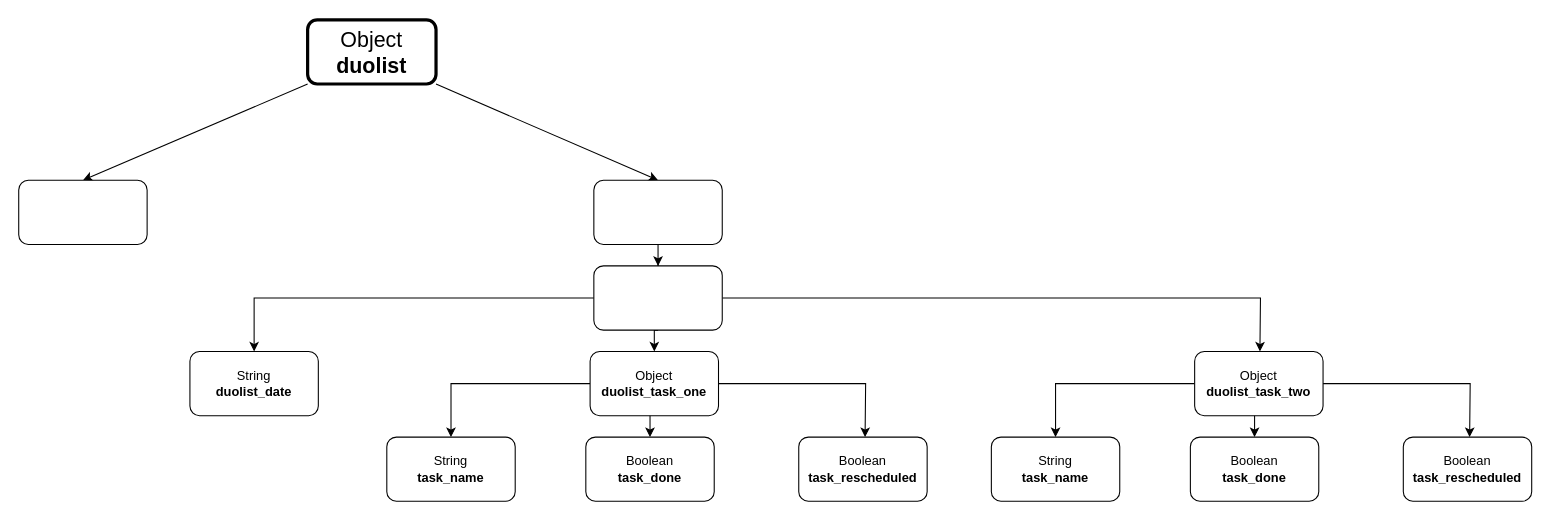
The diagram is 1554 pixels wide and 520 high, and some of its shapes have lost their labels. Each missing label, with the box of its shape:
Array of Objects duolist_infos: (593, 265, 722, 330)
Object user_ObjectId: (593, 179, 722, 244)
String _id: (18, 179, 147, 244)
